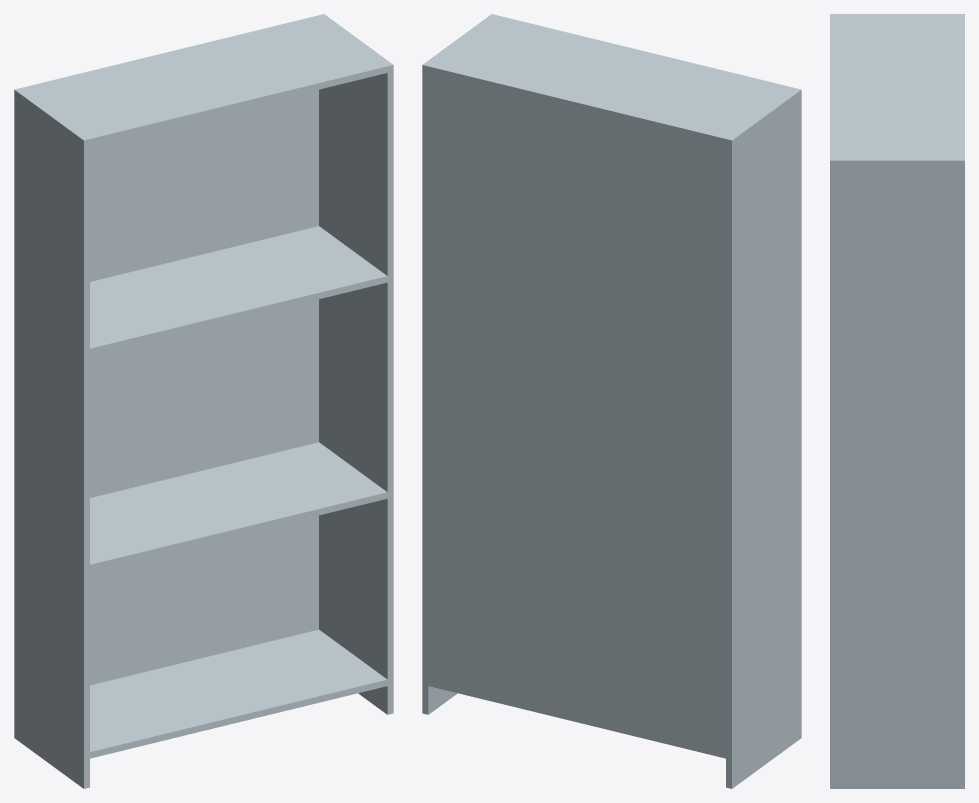
File: assembly.glb
3 views of the same model, side by side, from view 1: azimuth 30°, elevation 25°; view 2: azimuth 150°, elevation 25°; view 3: azimuth 270°, elevation 25° (orthographic). The views are drawn at different scales.
Parts seen in each view (by area): view 1: trasera, lateral_izquierdo, lateral_derecho, tapa, estante_inferior, base, estante_superior; view 2: trasera, lateral_izquierdo, tapa, lateral_derecho; view 3: lateral_derecho, tapa, lateral_izquierdo.
Boxes of the visible parts, x1,y1,x2,y2 form: trasera: (90, 89, 318, 685); lateral_izquierdo: (14, 88, 89, 788); lateral_derecho: (318, 14, 393, 714); tapa: (21, 15, 387, 145); estante_inferior: (90, 442, 387, 571); base: (90, 629, 387, 758); estante_superior: (90, 226, 387, 354); trasera: (428, 73, 725, 758); lateral_izquierdo: (726, 88, 801, 788); tapa: (428, 15, 794, 145); lateral_derecho: (422, 14, 497, 714); lateral_derecho: (830, 157, 964, 788); tapa: (830, 17, 964, 157); lateral_izquierdo: (830, 14, 964, 16).
Bounding box in the file's own units: 0.9 × 1.8 × 0.35.
